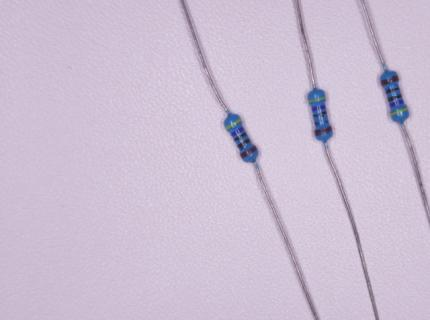Black band: (237, 138, 251, 148), (234, 132, 247, 142), (385, 86, 400, 94), (388, 94, 402, 102), (315, 119, 329, 126), (313, 112, 327, 119)
Brown band: (240, 146, 258, 158), (380, 75, 399, 86), (314, 127, 333, 136)
Violet band: (231, 126, 245, 137), (389, 99, 404, 108), (311, 105, 326, 112)
Yellow band: (225, 119, 242, 130), (389, 107, 408, 116), (309, 97, 325, 103)
